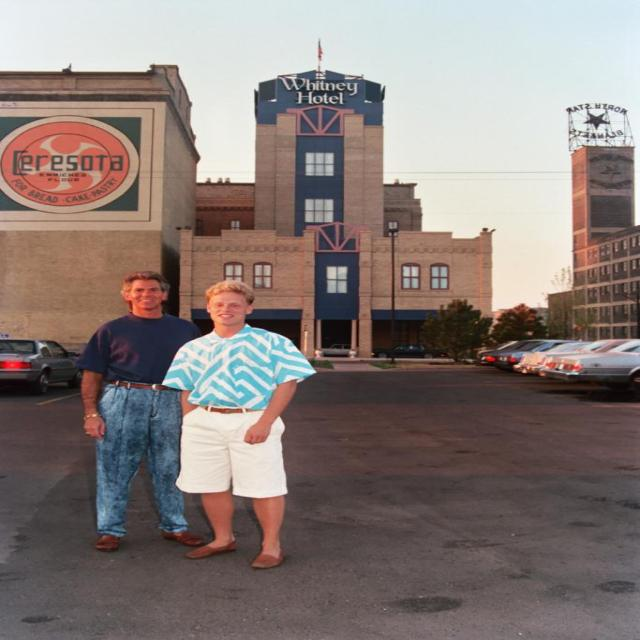car: (372, 342, 437, 363)
